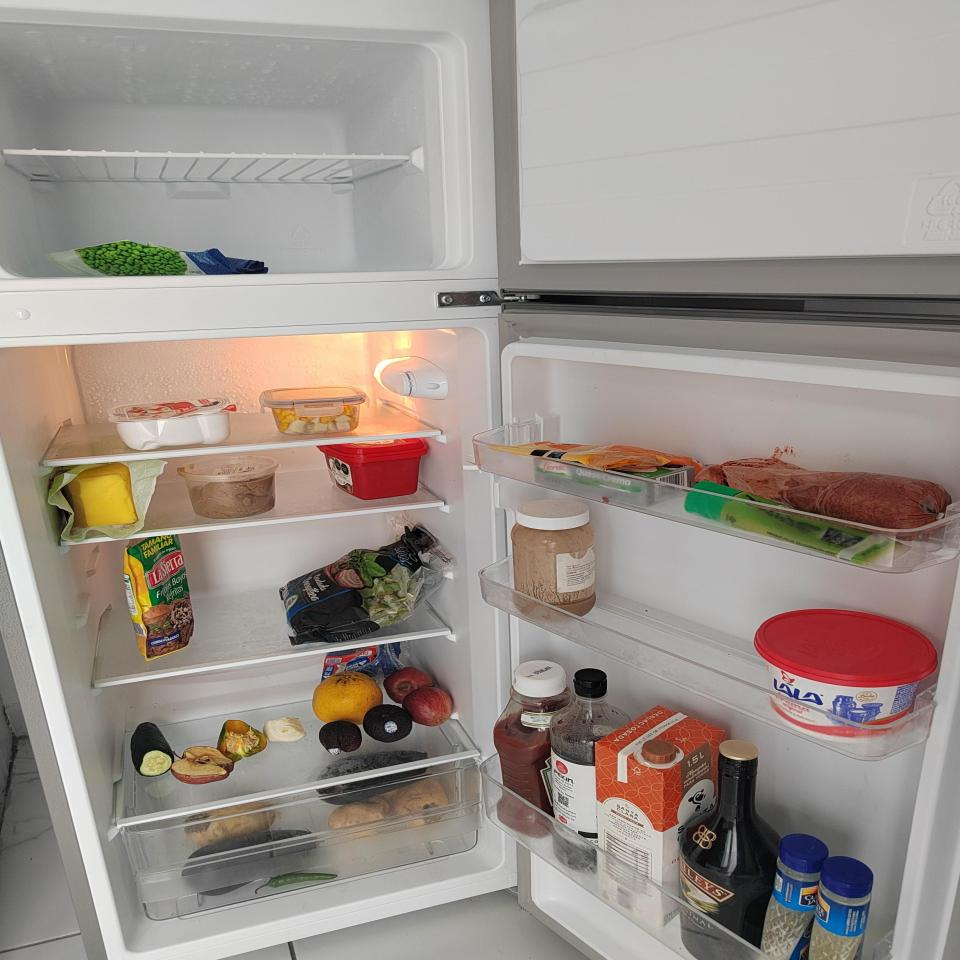Manzana: (401, 688, 453, 726), (384, 666, 434, 704)
Pepino: (129, 721, 172, 776)
